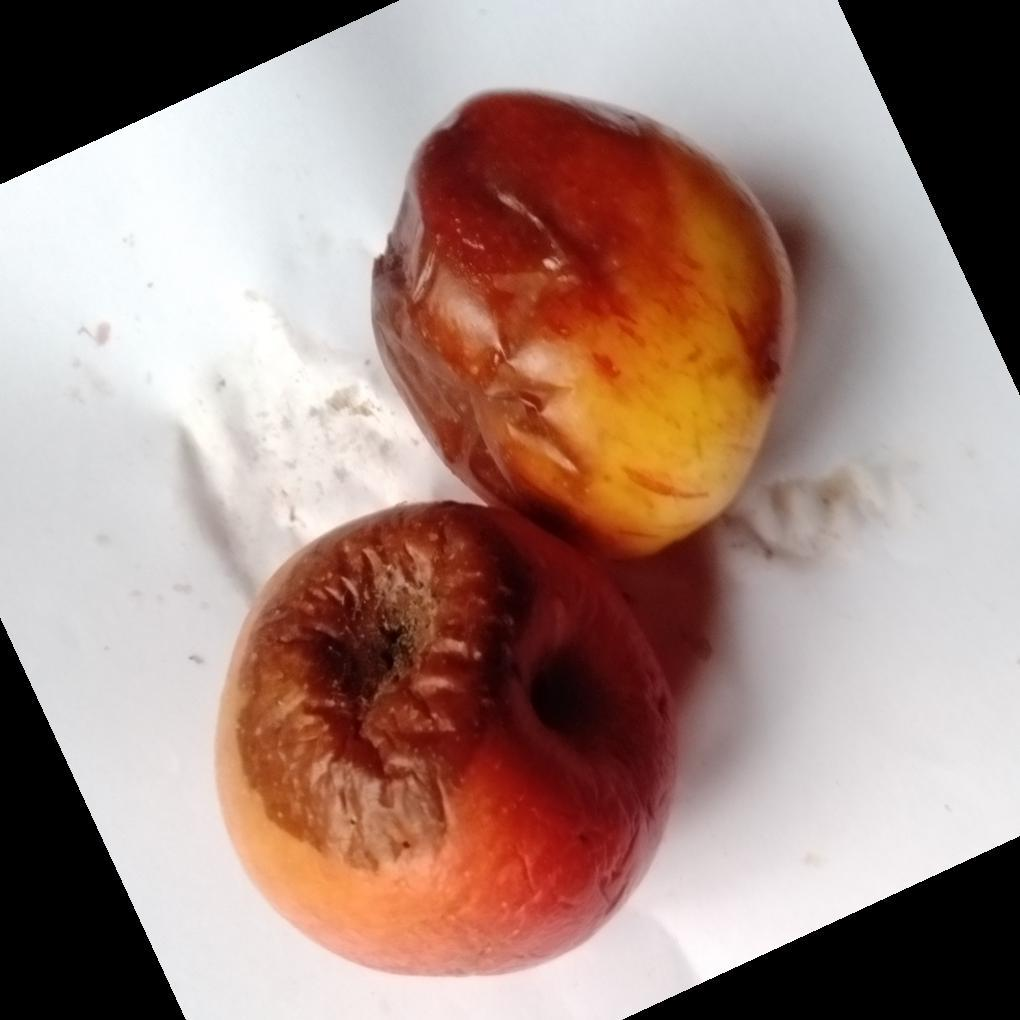FreshOrange: (213, 90, 794, 979), (339, 89, 798, 688)
